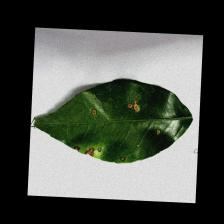canker: (68, 97, 166, 167)
